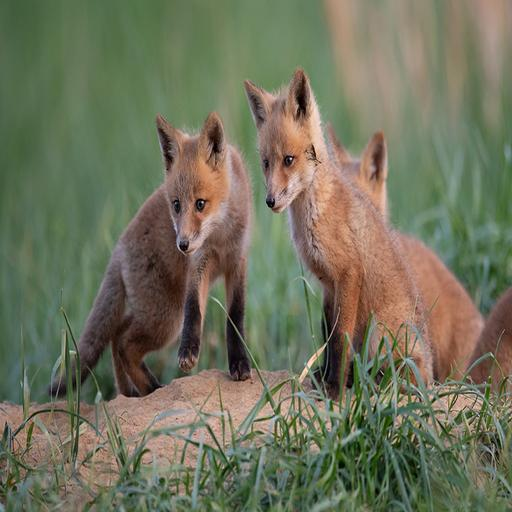Fox: (235, 63, 512, 409), (0, 111, 269, 430)
